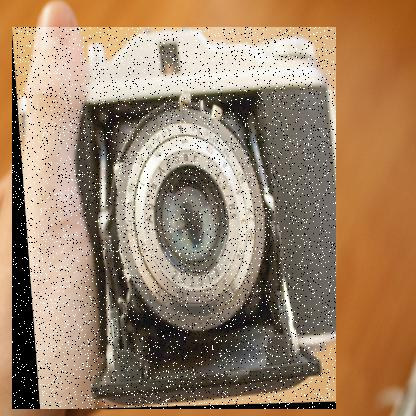Camera: (13, 28, 338, 411)
